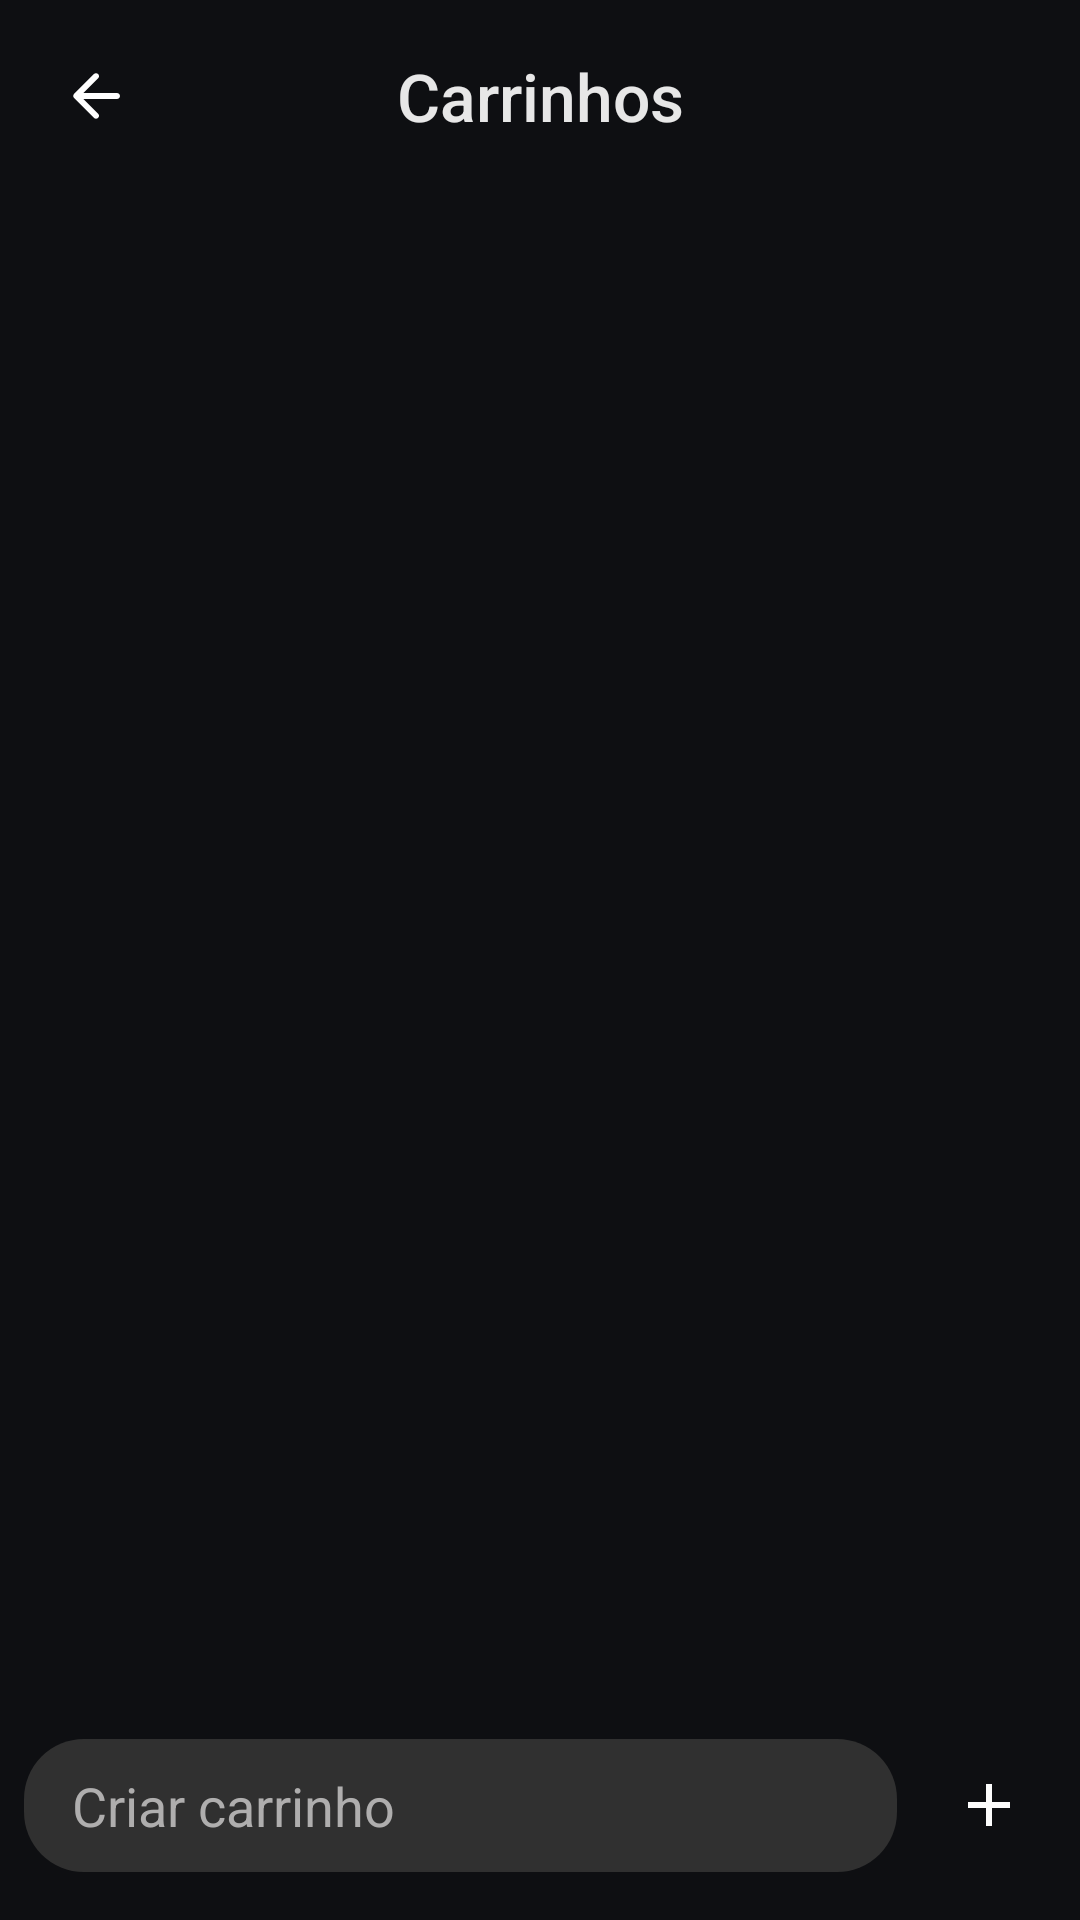

Screen size 1080 x 1920. Icon name, then its center in pixels as (x=x, y=y):
add: (x=989, y=1805)
arrow back: (x=96, y=96)
